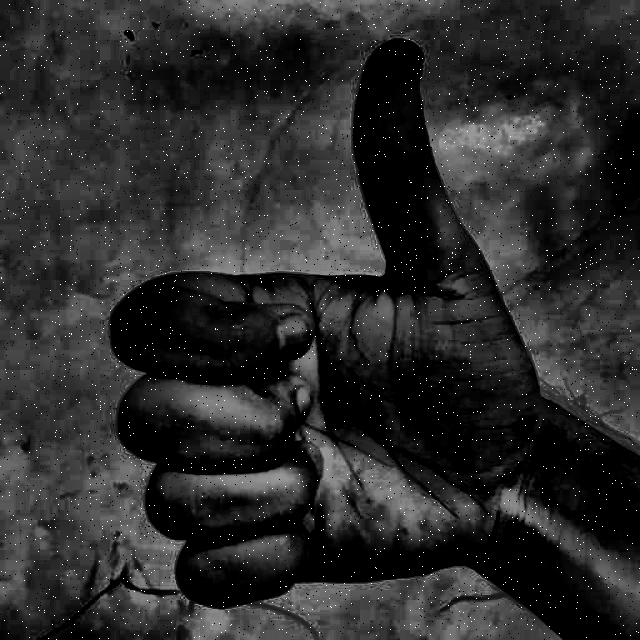Do: (88, 29, 560, 617)
